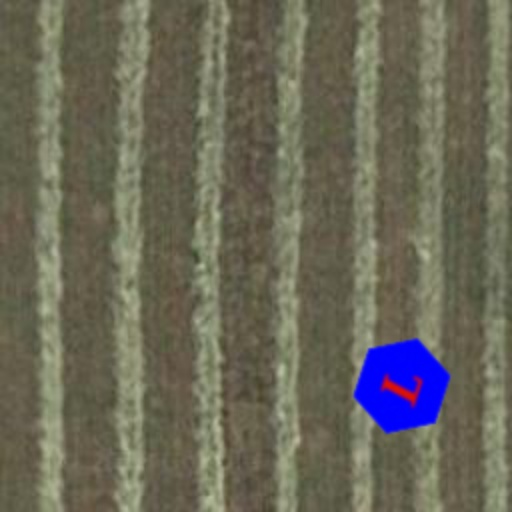hexagon: (338, 322, 466, 450)
